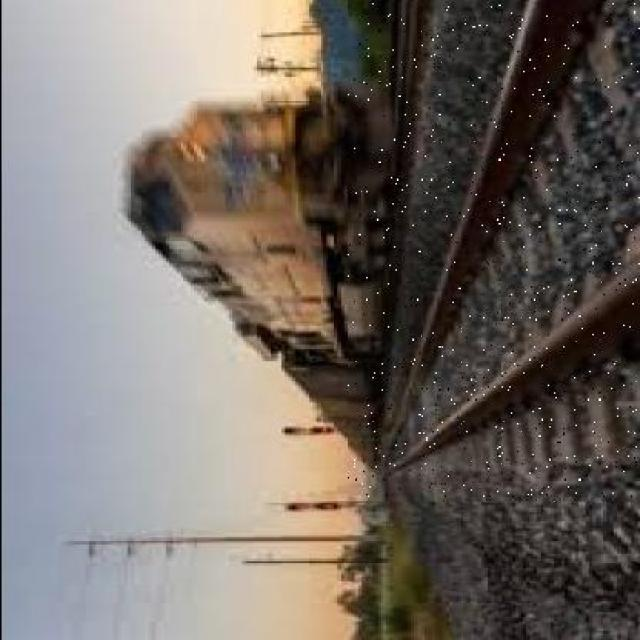rail: (347, 3, 638, 501)
